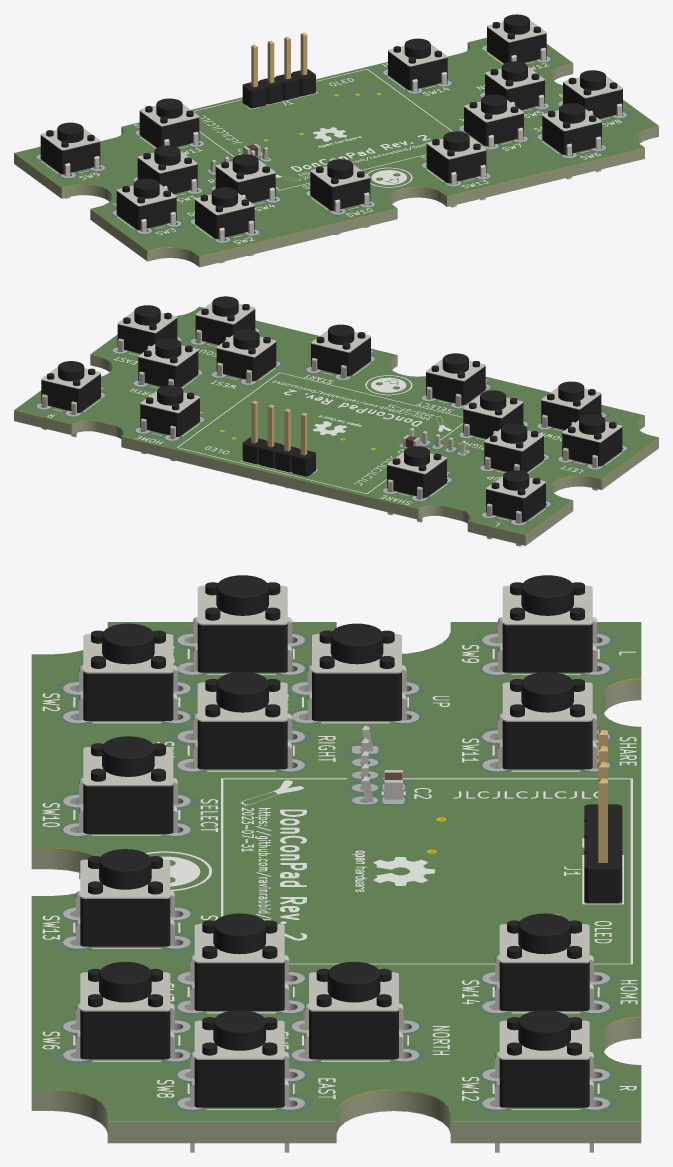
The model's file is board.glb.
The picture shows the model from 3 angles, top to bottom: view 1: azimuth 30°, elevation 25°; view 2: azimuth 150°, elevation 25°; view 3: azimuth 270°, elevation 25°; orthographic projection. The views are drawn at different scales.
Parts seen in each view (by area): view 1: board_soldermask (×2), board_copper, SW_PUSH_6mm_h5mm (×14), board_PCB, board_silkscreen, PinHeader_1x04_P254mm_Vertical, board_pad; view 2: board_soldermask (×2), SW_PUSH_6mm_h5mm (×14), board_copper, board_PCB, board_silkscreen, PinHeader_1x04_P254mm_Vertical, board_pad; view 3: board_soldermask (×2), board_copper, SW_PUSH_6mm_h5mm (×14), board_PCB, board_silkscreen, board_pad, PinHeader_1x04_P254mm_Vertical.
Boxes of the visible parts, <box> form: board_soldermask (×2): <box>14,37,658,267</box>; board_copper: <box>14,38,658,256</box>; SW_PUSH_6mm_h5mm (×14): <box>40,14,622,263</box>; board_PCB: <box>14,43,658,266</box>; board_silkscreen: <box>41,52,621,244</box>; PinHeader_1x04_P254mm_Vertical: <box>242,32,315,108</box>; board_pad: <box>36,45,626,242</box>; board_soldermask (×2): <box>14,306,658,545</box>; SW_PUSH_6mm_h5mm (×14): <box>41,296,622,546</box>; board_copper: <box>14,307,658,535</box>; board_PCB: <box>14,328,658,545</box>; board_silkscreen: <box>41,344,622,526</box>; PinHeader_1x04_P254mm_Vertical: <box>242,400,315,492</box>; board_pad: <box>36,328,626,525</box>; board_soldermask (×2): <box>31,622,641,1143</box>; board_copper: <box>32,623,640,1121</box>; SW_PUSH_6mm_h5mm (×14): <box>76,575,596,1152</box>; board_PCB: <box>31,631,641,1142</box>; board_silkscreen: <box>42,645,637,1109</box>; board_pad: <box>63,634,609,1109</box>; PinHeader_1x04_P254mm_Vertical: <box>584,730,622,903</box>.
Size of the model in its own units: 0.0787 by 0.0151 by 0.0406.
